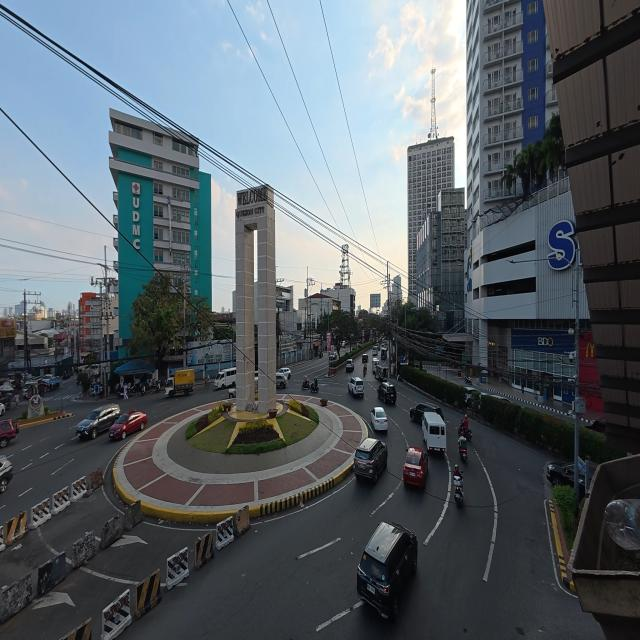Jeepneys: (0, 383, 15, 409), (374, 364, 388, 380), (381, 348, 387, 361)
car: (357, 522, 417, 620), (76, 404, 120, 438), (354, 438, 387, 482), (403, 447, 428, 488), (110, 412, 147, 439), (410, 404, 444, 423), (0, 420, 19, 448), (0, 456, 13, 493), (370, 407, 388, 431), (378, 382, 396, 404), (23, 380, 43, 398), (348, 377, 364, 397), (586, 420, 606, 433), (44, 378, 61, 391), (465, 387, 477, 405), (276, 373, 288, 389), (490, 394, 511, 403), (277, 367, 291, 380), (579, 473, 584, 498), (345, 359, 354, 372), (42, 374, 54, 382), (228, 388, 236, 398), (330, 352, 337, 361), (0, 403, 5, 415), (362, 354, 368, 364), (255, 373, 258, 391), (373, 346, 377, 355)
motorcycle: (458, 421, 472, 441), (454, 475, 463, 505), (459, 438, 467, 461), (150, 380, 160, 393), (302, 379, 310, 389), (310, 384, 318, 393), (465, 375, 472, 384), (363, 366, 367, 377)
trucks: (165, 369, 194, 396)
vans: (422, 412, 446, 452), (214, 368, 236, 389)
